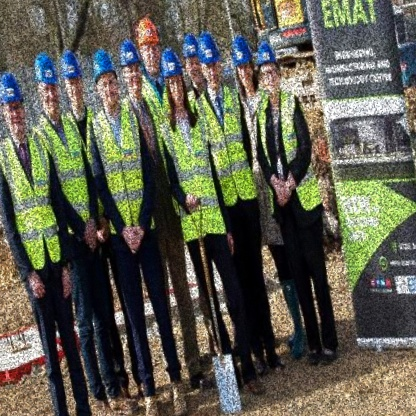blue: (224, 27, 258, 69), (28, 47, 60, 90), (86, 44, 119, 83), (113, 33, 142, 76), (0, 70, 28, 113), (196, 28, 222, 70), (157, 42, 185, 80), (55, 45, 84, 81), (253, 37, 282, 71), (180, 31, 202, 61)
vest: (81, 95, 161, 247), (152, 104, 232, 248), (248, 82, 328, 225), (0, 125, 72, 276), (115, 82, 184, 237), (26, 103, 100, 246), (189, 78, 266, 211), (62, 101, 120, 241)
